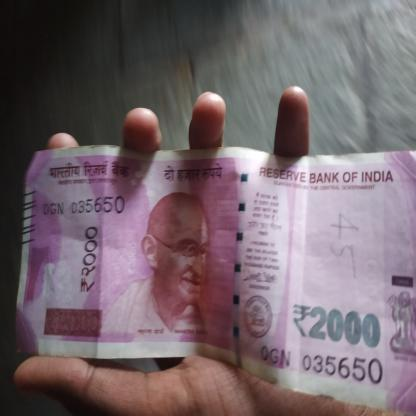New2000Front: (20, 153, 416, 381)
